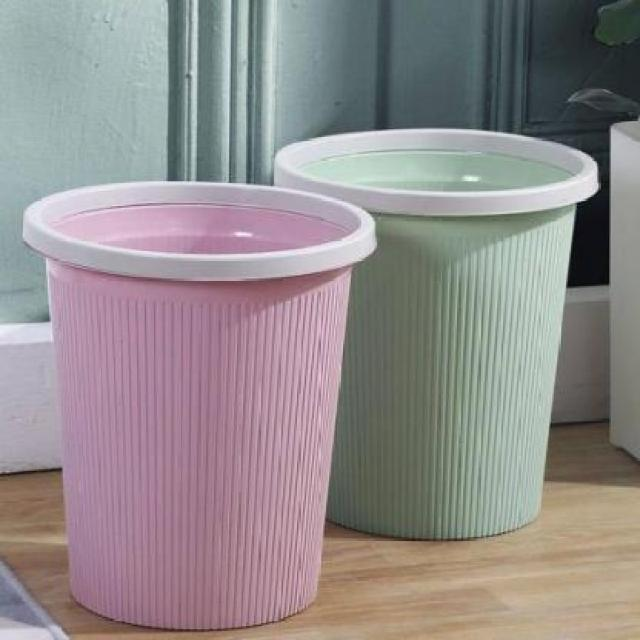dustbin: (17, 177, 379, 635), (271, 125, 600, 548)
